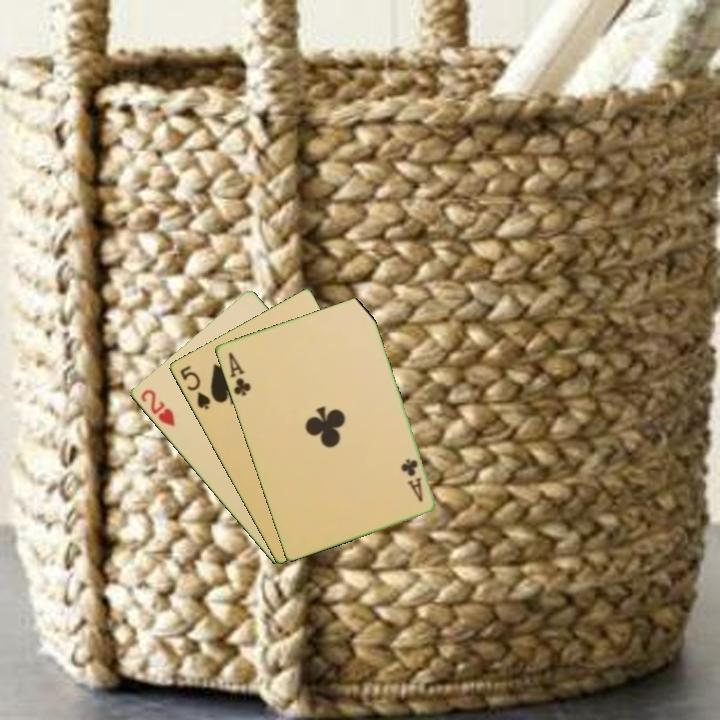2h: (137, 385, 178, 429)
5s: (176, 362, 213, 412)
Ac: (224, 348, 253, 399), (397, 455, 426, 505)
